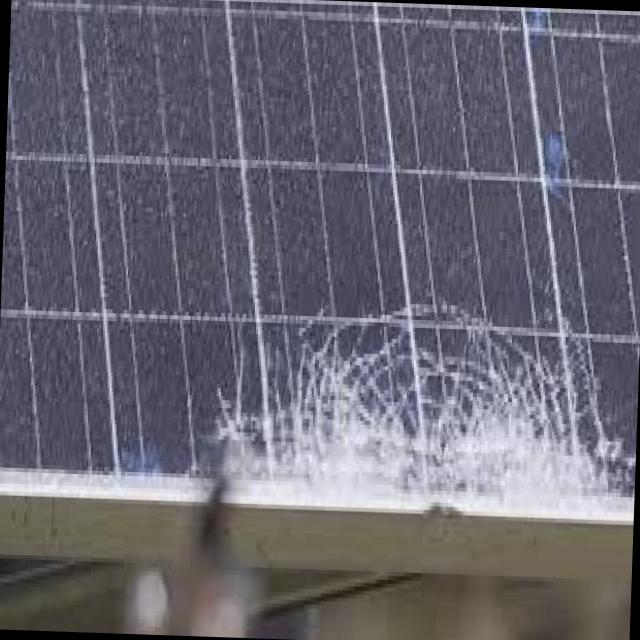faulty: (56, 5, 640, 515)
